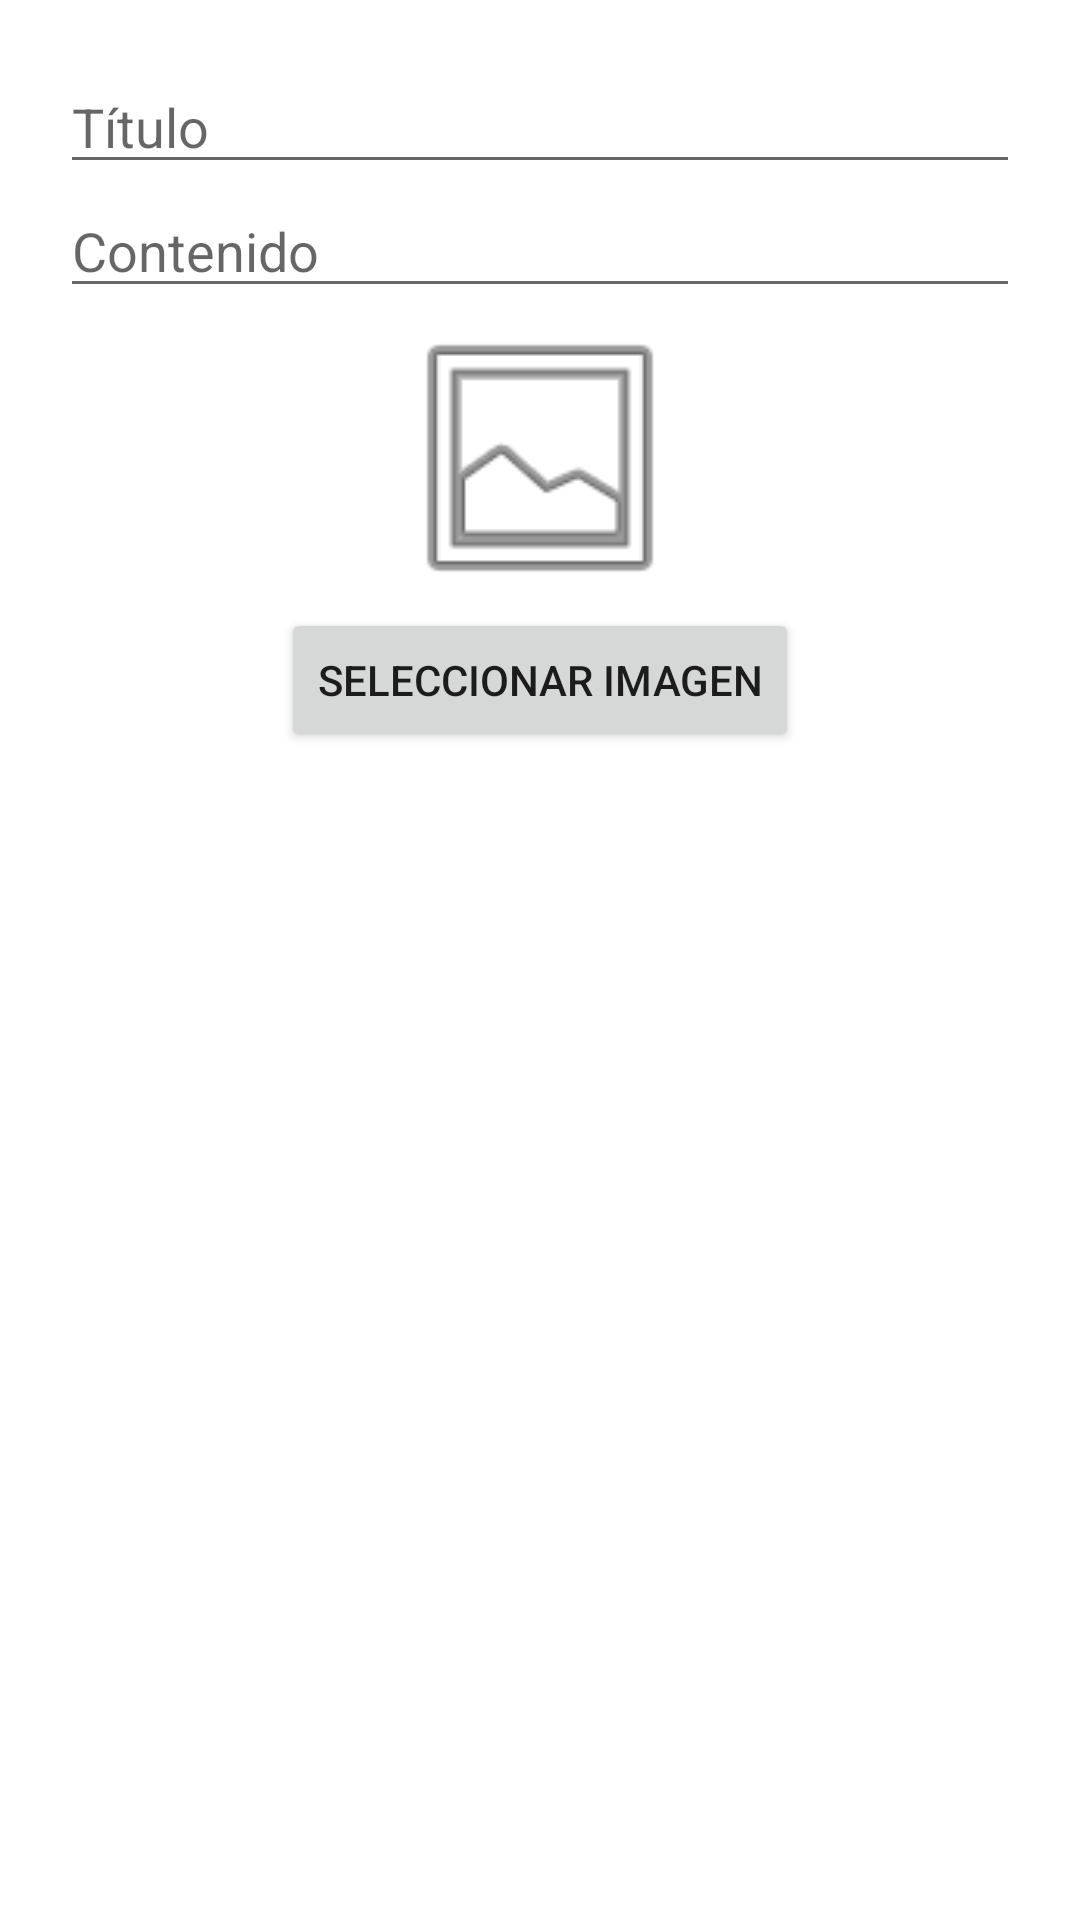

Icons on this 1080 × 1920 Android screen, each with the point to tap as (x=x, y=y):
gallery: (x=540, y=458)
